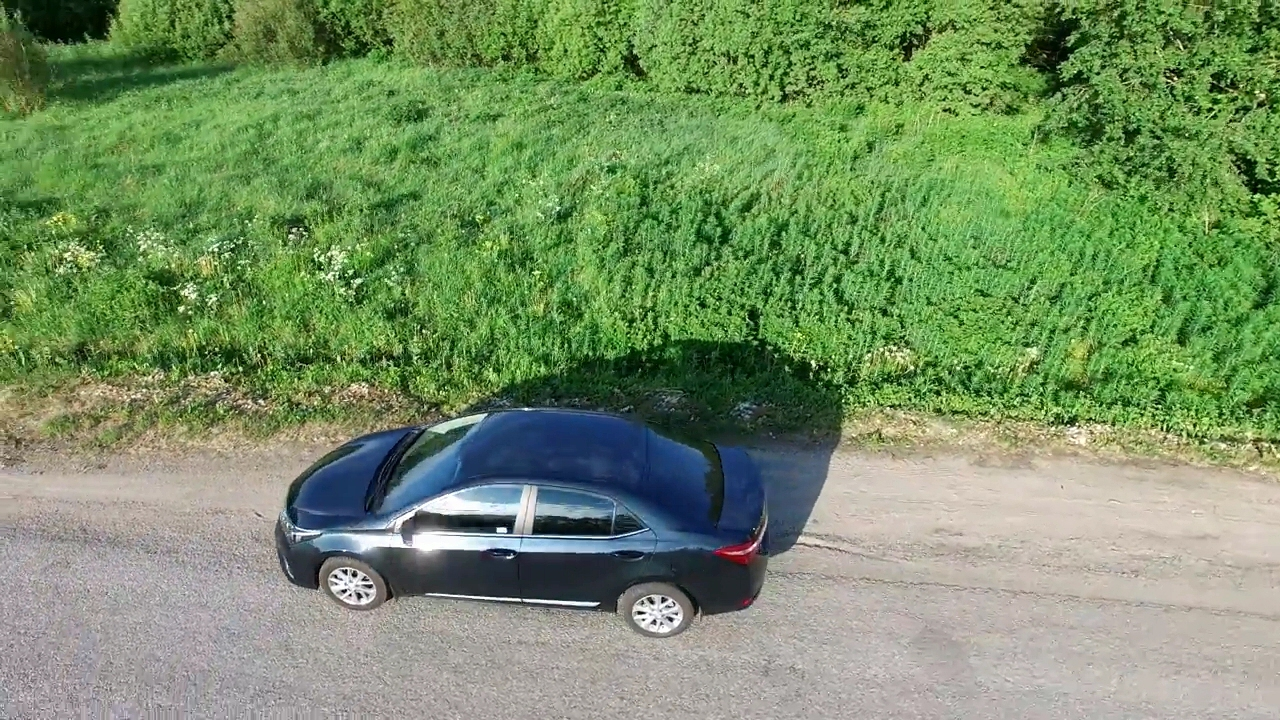araba: (277, 403, 783, 637)
